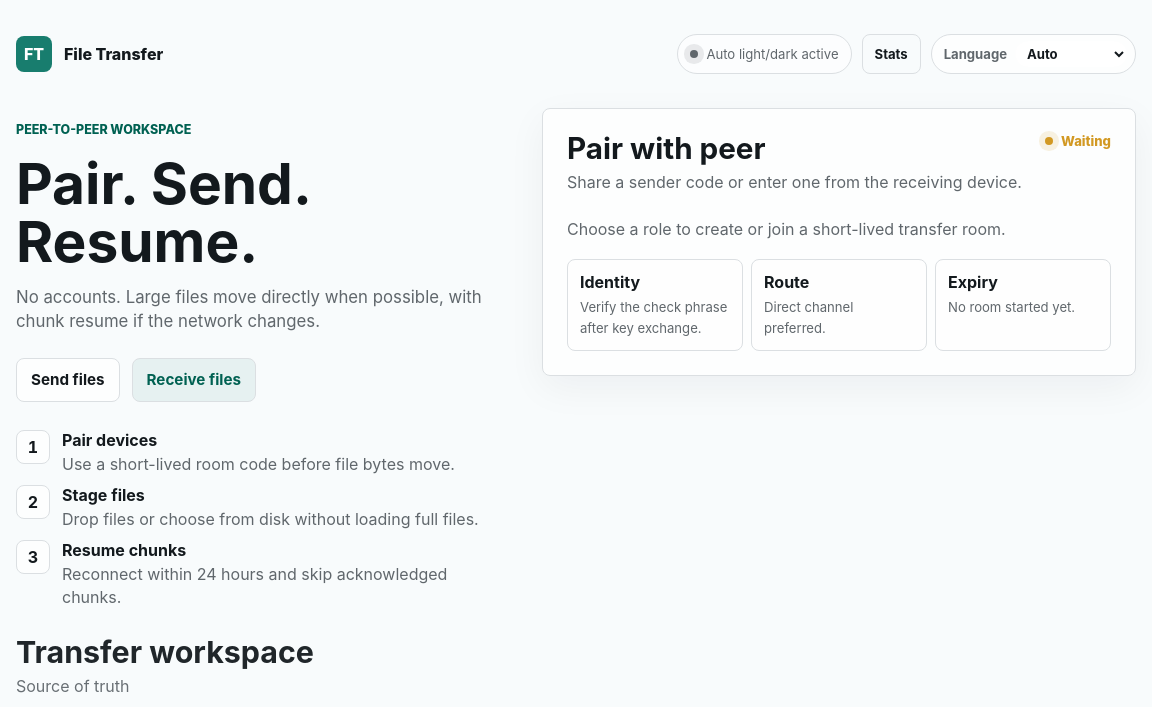
Test: App › switches the interface language
The image size is (1152, 707).
Select "简体中文" in the dropdown labelled "Language" at x=1071, y=54, box [1015, 41, 1127, 67]
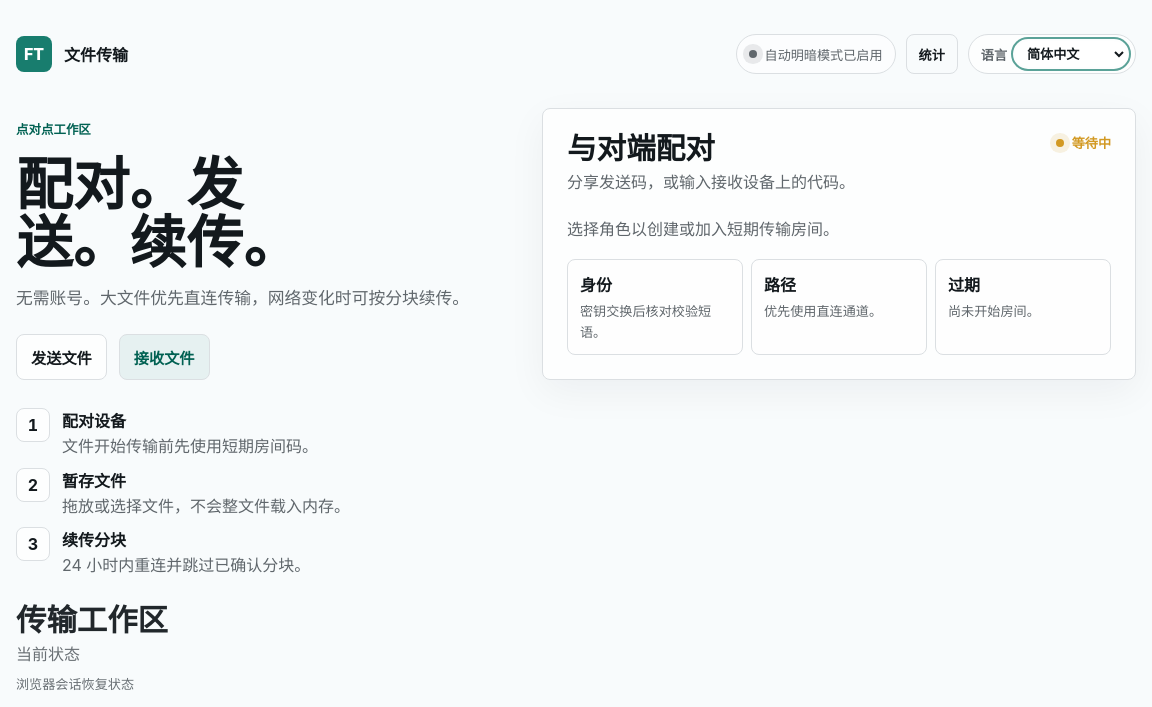
Result: the heading "配对。发送。续传。" is shown at [16, 150, 300, 277]
Result: the button "发送文件" is shown at [16, 334, 107, 380]
